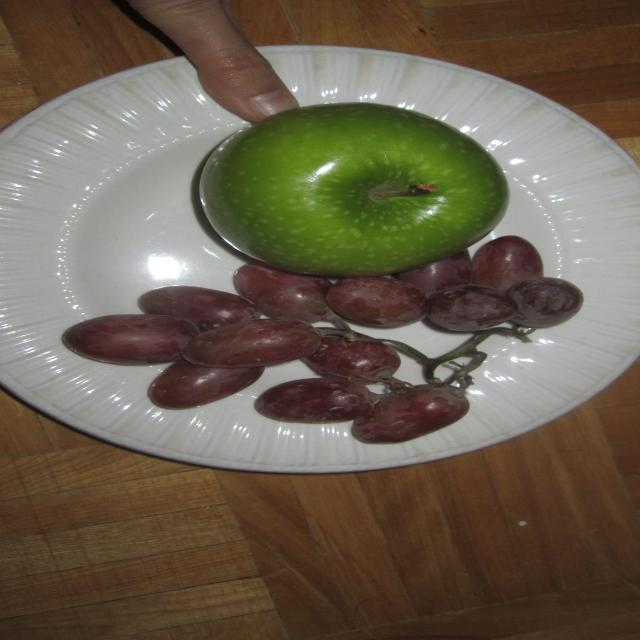apple: (190, 101, 512, 277)
grape: (61, 284, 601, 476)
